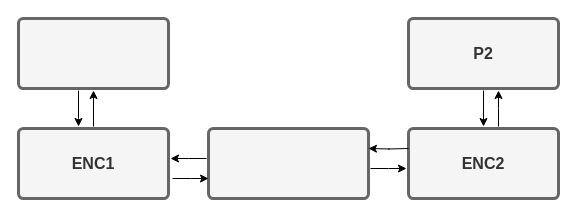
The diagram is 577 pixels wide and 217 high, and some of its shapes have lost their labels. The shapes that lost their labels are listed below. From the top down, each one's box as (x1, y1, x2, y2) in pixels, then its label:
(16, 16, 170, 90): P1
(206, 126, 370, 200): CHAN
